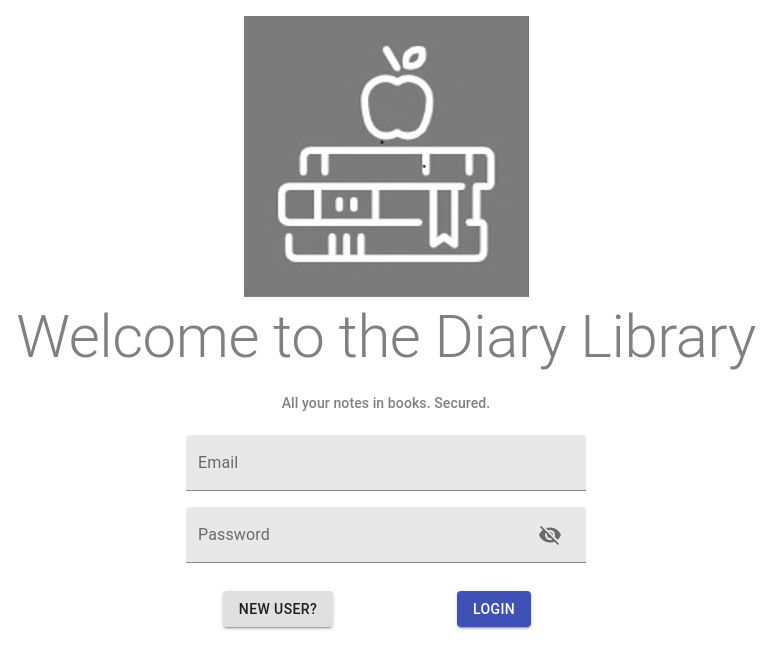
Test: renders Login page
The width and height of the screenshot is (773, 647).
Check: the heading "Welcome to the Diary Library" is shown, box [16, 301, 756, 372]
Check: the heading "All your notes in books. Secured." is shown, box [282, 395, 490, 411]
Type "test" into the password field with placeholder "Enter password" at [352, 535], box [186, 507, 518, 563]
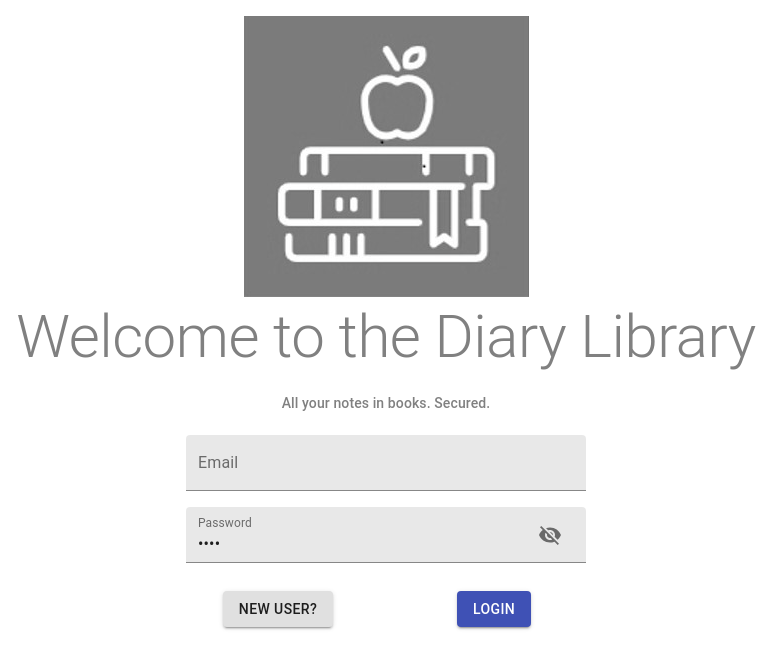
Check: the text "test" is not shown
Click the button named "toggle password visibility" at [550, 535], box [526, 511, 574, 559]
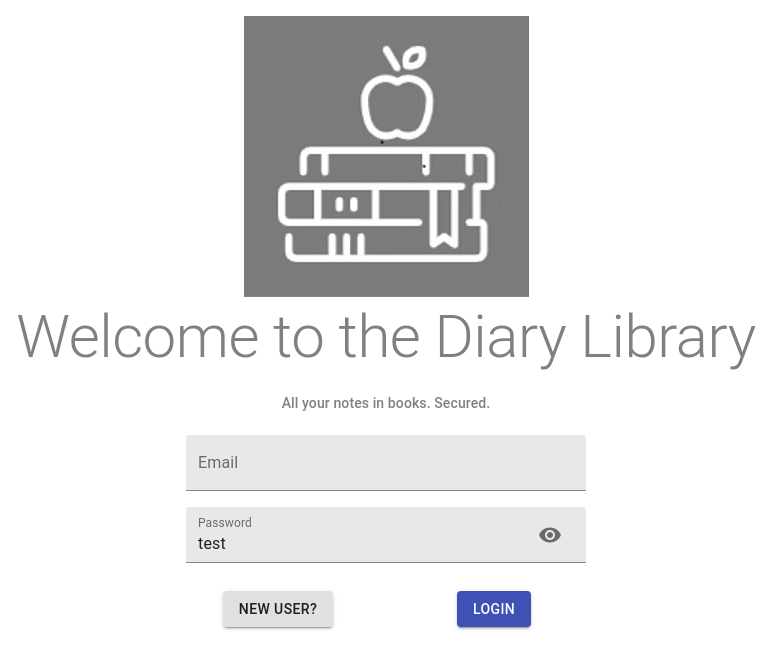
Check: the field showing "test" shows its text, box [186, 507, 518, 563]
